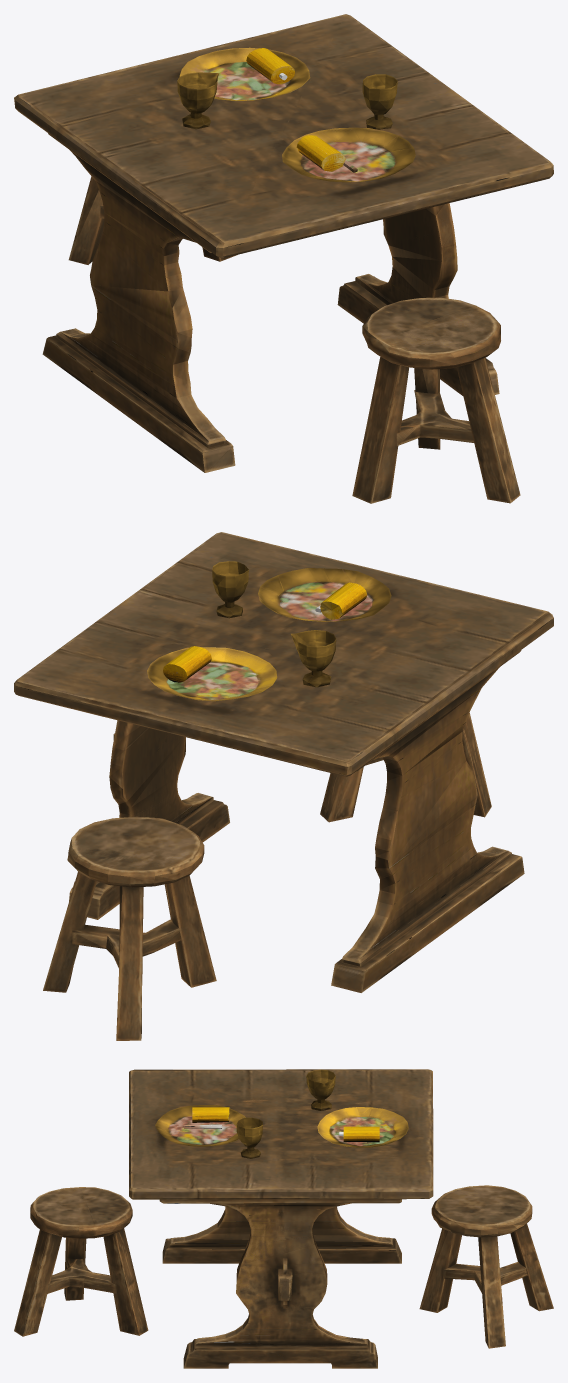
Rendered from table.glb.
3 views of the same model, one above another, from view 1: azimuth 30°, elevation 25°; view 2: azimuth 150°, elevation 25°; view 3: azimuth 270°, elevation 25° (orthographic). The views are drawn at different scales.
Parts seen in each view (by area): view 1: geometry_0; view 2: geometry_0; view 3: geometry_0.
Part boxes in pixels (x1,y1,x2,y2): geometry_0: (14,14,553,503); geometry_0: (14,532,553,1040); geometry_0: (14,1069,553,1368).
Bounding box in the file's own units: 1.06 × 0.8967 × 2.
Materials: 1 (1 with a texture image).
